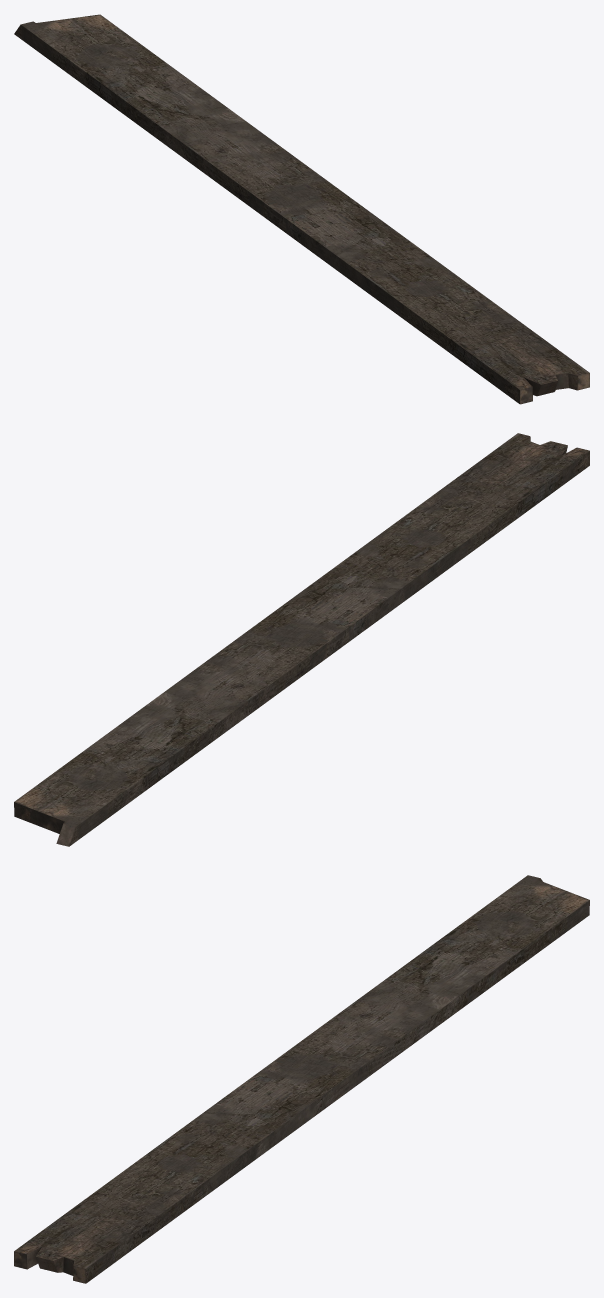
Rendered from SM_WoodBoard_01.glb.
3 renders of one model, top to bottom at view 1: azimuth 30°, elevation 25°; view 2: azimuth 150°, elevation 25°; view 3: azimuth 330°, elevation 25°, orthographic. The views are drawn at different scales.
Visible parts, largest first — view 1: SM_WoodBoard_01; view 2: SM_WoodBoard_01; view 3: SM_WoodBoard_01.
Part boxes in pixels (left/top/right/bottom): SM_WoodBoard_01: left=14, top=14, right=589, bottom=404; SM_WoodBoard_01: left=14, top=433, right=589, bottom=846; SM_WoodBoard_01: left=14, top=875, right=589, bottom=1283.
Bounding box in the file's own units: 0.1385 × 0.0275 × 1.73.
Materials: 1 (1 with a texture image).
